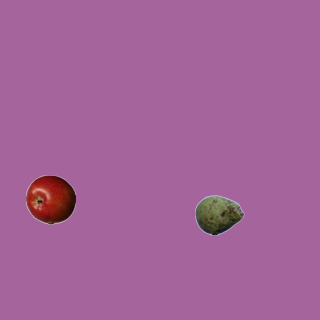Apple Braeburn: (25, 174, 75, 224)
Pear Stone: (194, 190, 244, 240)
